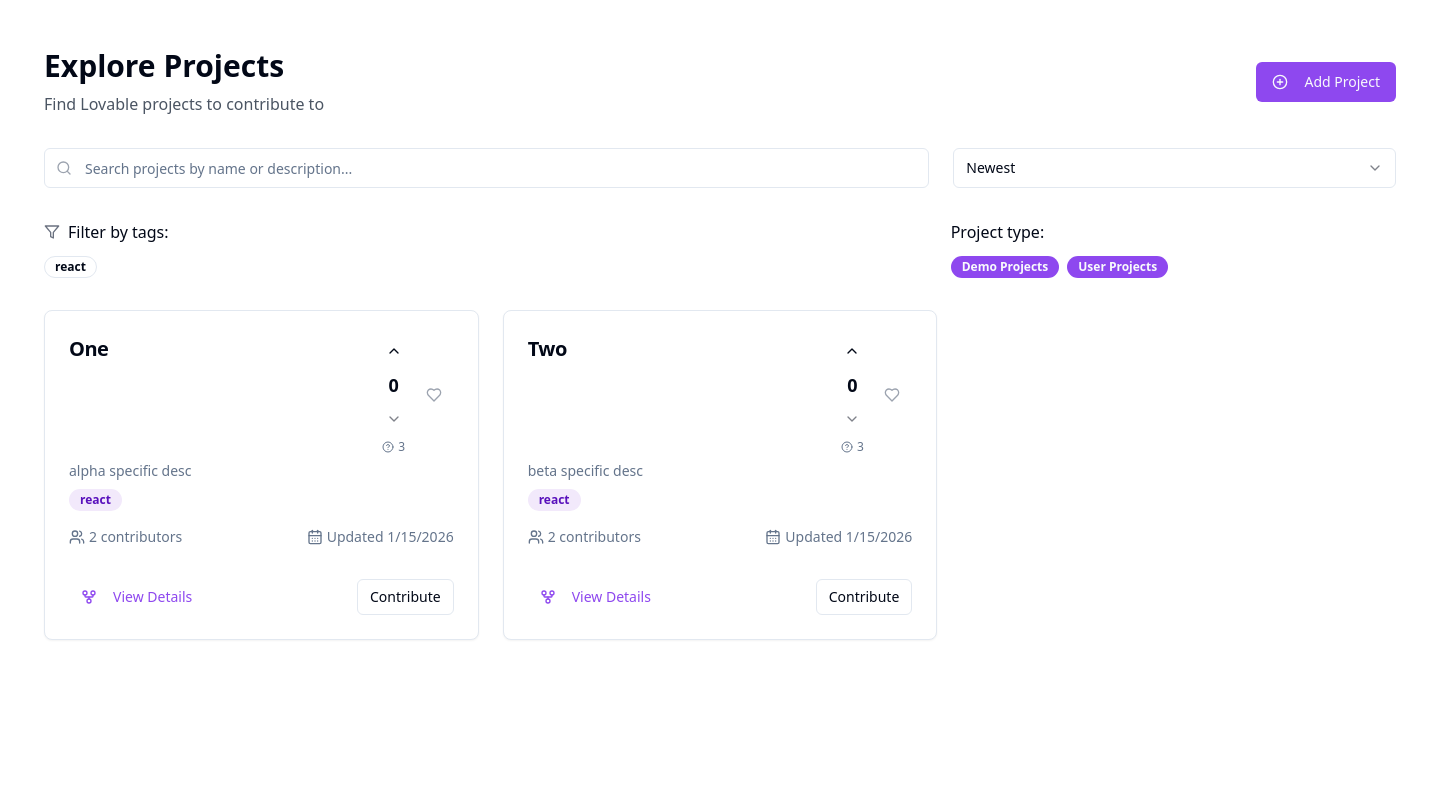
Scenario: Projects page › filters by search query matching short description
Expected: the link "One" is shown, left=69, top=335, right=108, bottom=362
Type "alpha specific" into the field with placeholder "Search projects by name or description...".
click(487, 168); type("alpha specific")  # box left=44, top=148, right=929, bottom=188
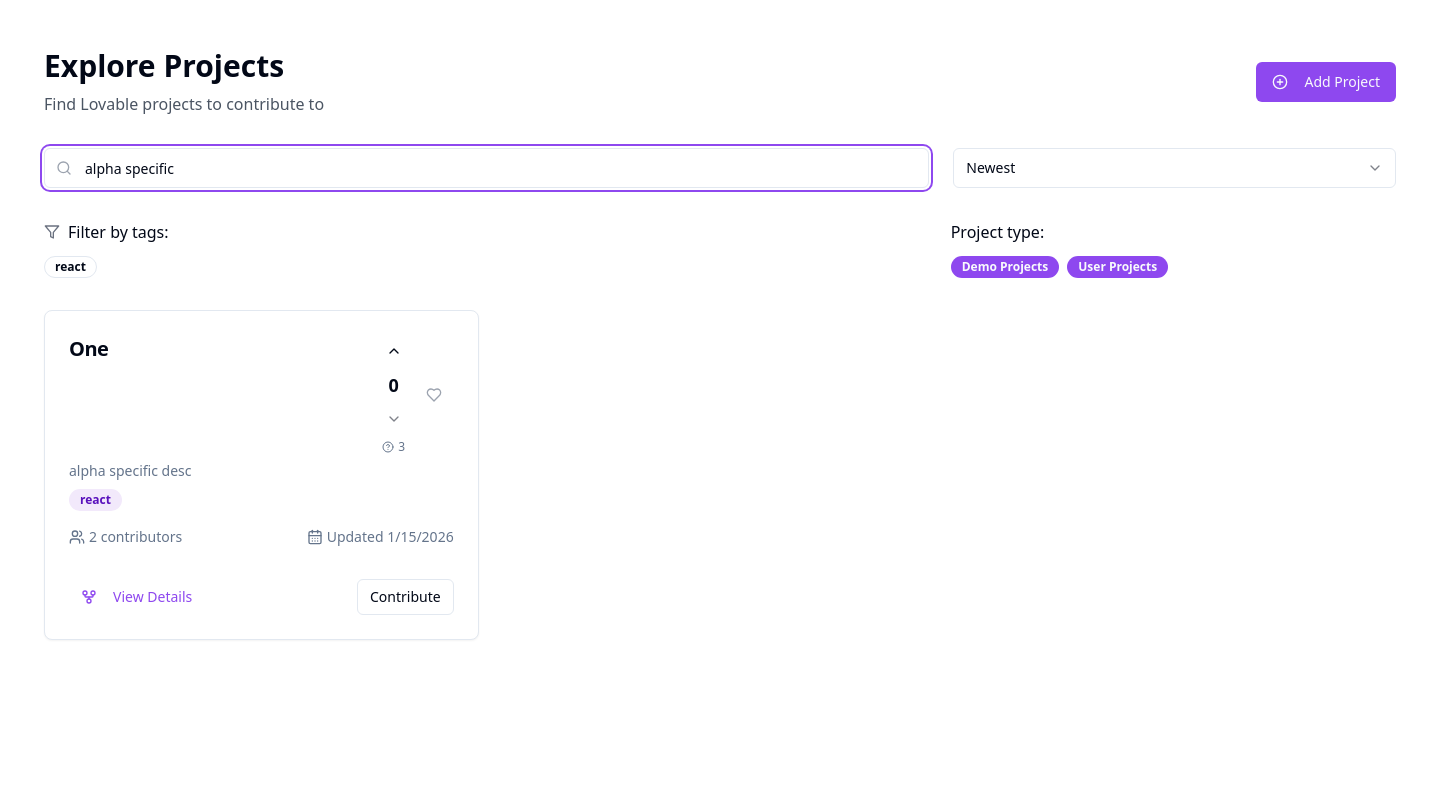
Expected: the link "One" is shown, left=69, top=335, right=108, bottom=362
Expected: the link "Two" is gone
